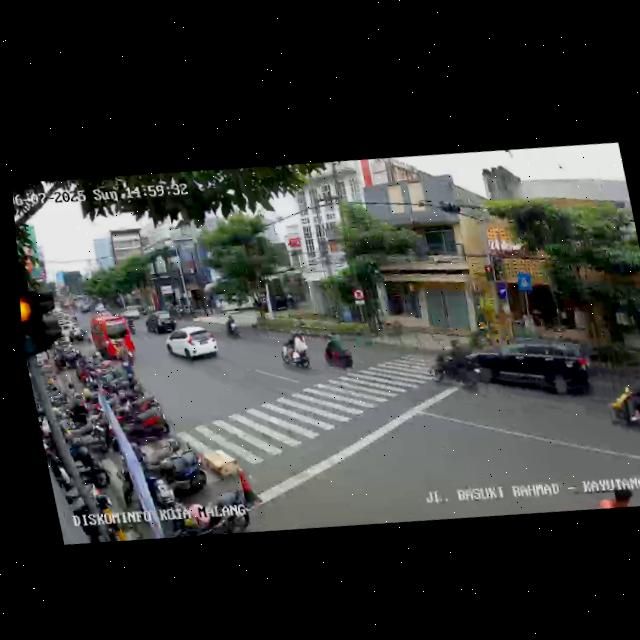car: (453, 329, 602, 419), (162, 320, 222, 369), (87, 312, 138, 365)
motorcycle: (599, 370, 640, 440), (275, 326, 315, 375), (319, 329, 358, 377), (225, 313, 243, 342)
